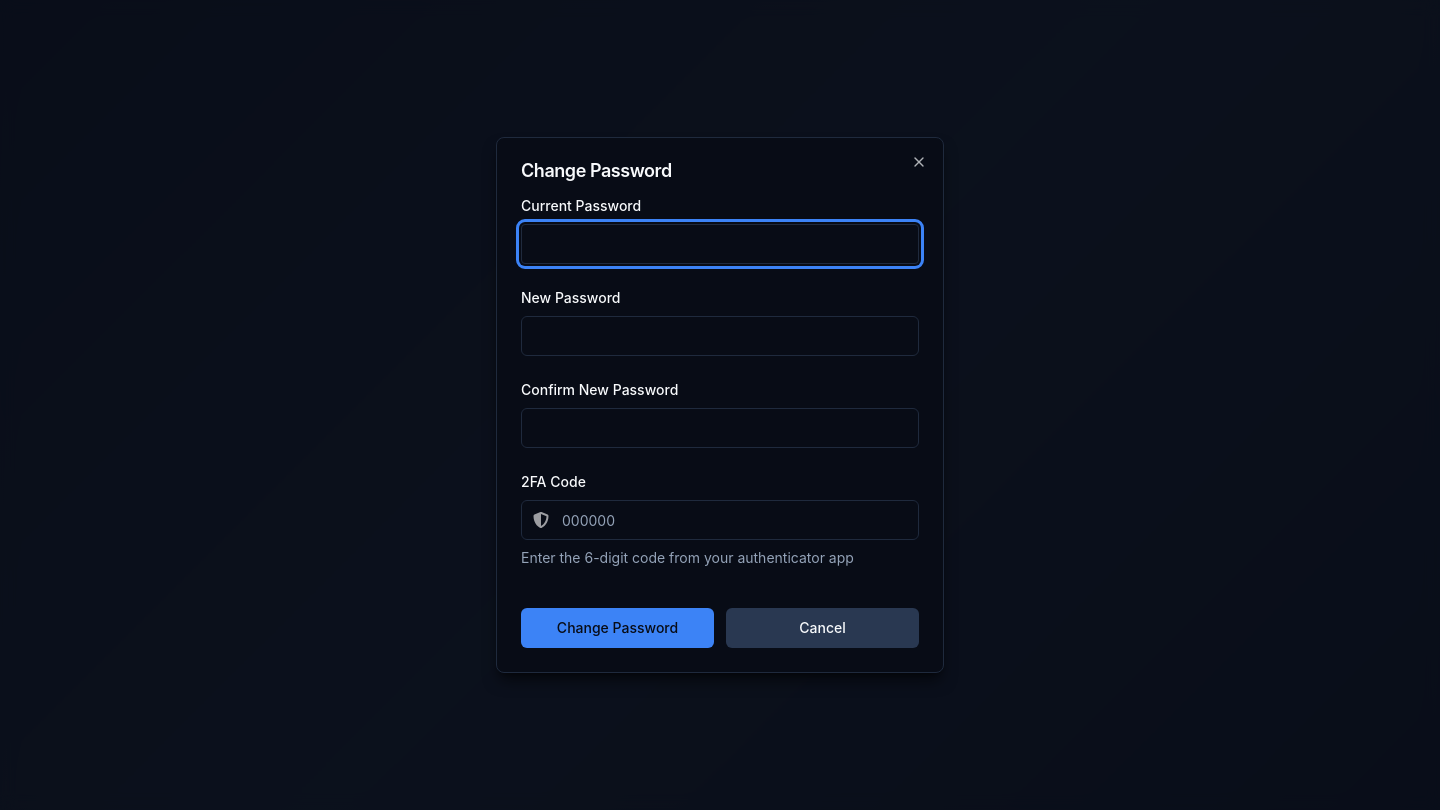
ChangePasswordDialog › strips non-digits from the OTP and caps it at six characters
This screenshot has width=1440, height=810.
Type "12a34b56789" into the field labelled "2FA Code". click: (720, 520)
box: x1=521 y1=500 x2=919 y2=540
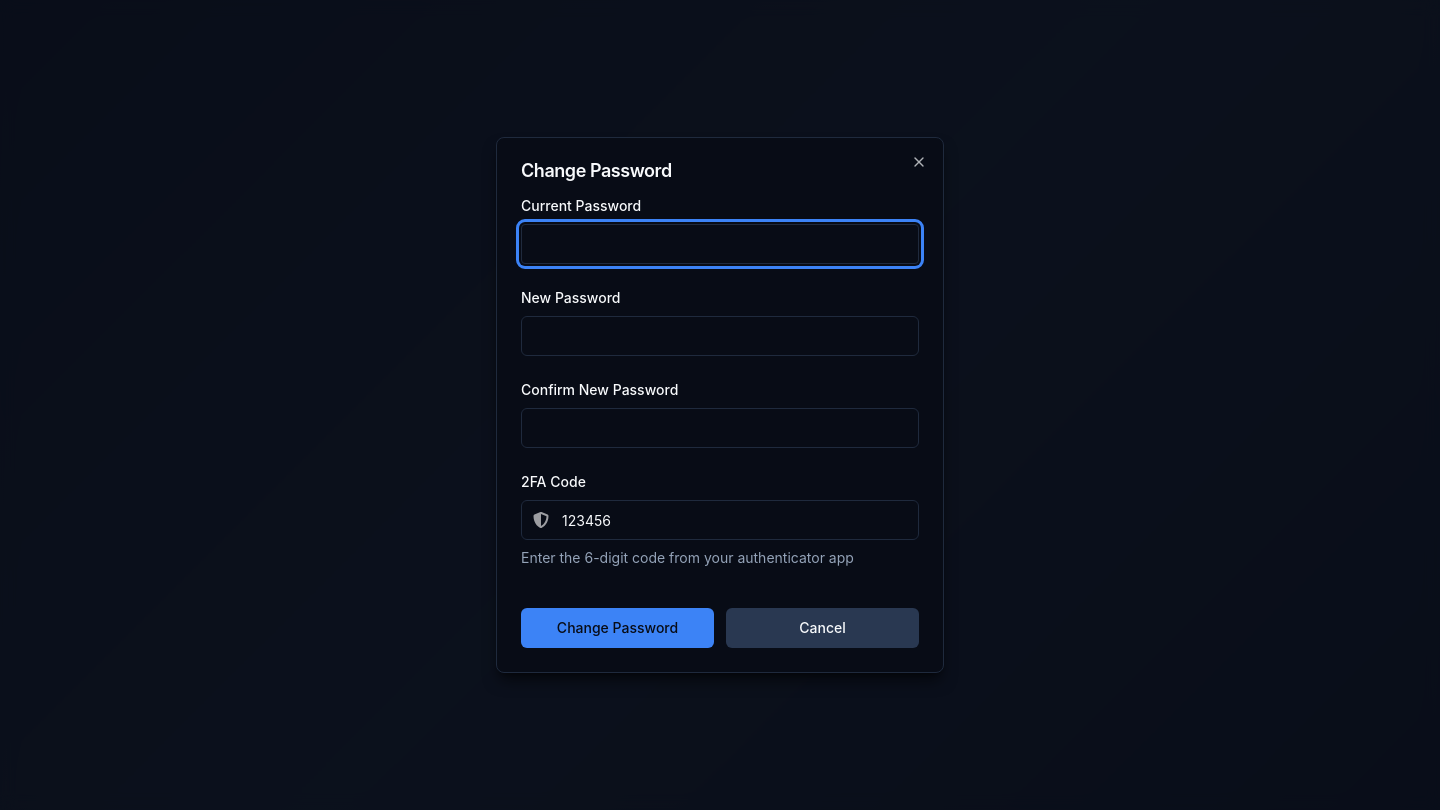
Expected: the field labelled "2FA Code" holds "123456", x1=521 y1=500 x2=919 y2=540
